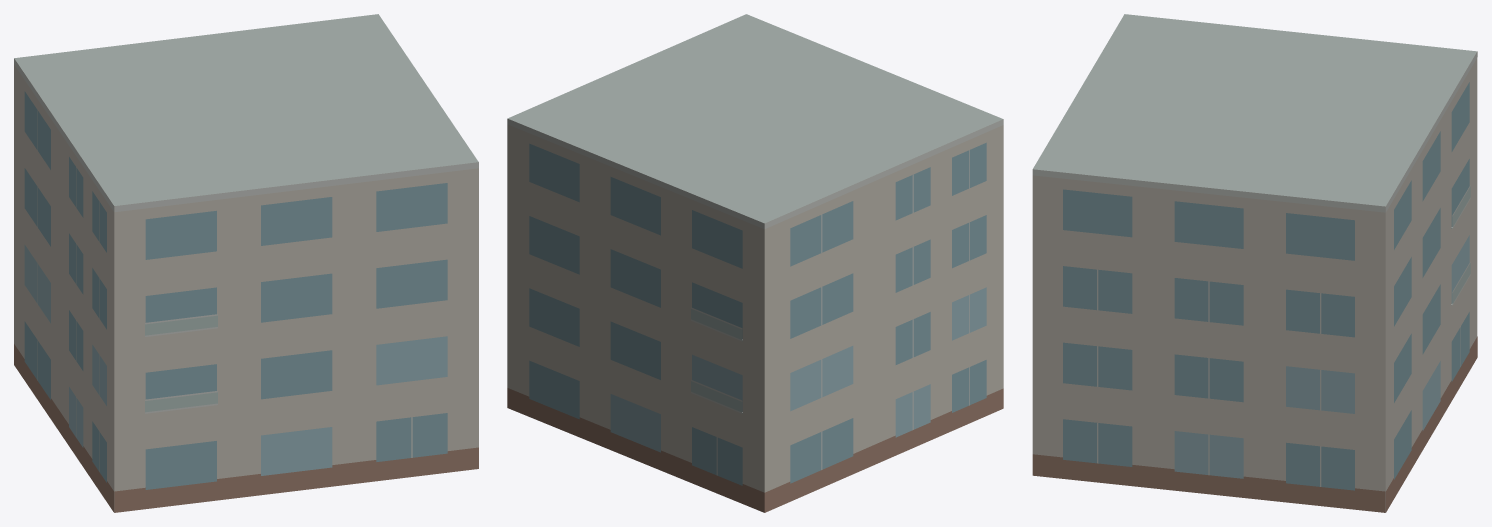
File: residential-9f1bf838-9263-44a7-9ea9-d5c2fa503994.glb
3 renders of one model, left to right at view 1: azimuth 30°, elevation 25°; view 2: azimuth 150°, elevation 25°; view 3: azimuth 270°, elevation 25°, orthographic. The views are drawn at different scales.
Parts seen in each view (by area): view 1: residential-9f1bf838-9263-44a7-9ea9-d5c2fa503994.tmp; view 2: residential-9f1bf838-9263-44a7-9ea9-d5c2fa503994.tmp; view 3: residential-9f1bf838-9263-44a7-9ea9-d5c2fa503994.tmp.
Part boxes in pixels (x1,y1,x2,y2): residential-9f1bf838-9263-44a7-9ea9-d5c2fa503994.tmp: (14, 14, 478, 512); residential-9f1bf838-9263-44a7-9ea9-d5c2fa503994.tmp: (507, 14, 1003, 512); residential-9f1bf838-9263-44a7-9ea9-d5c2fa503994.tmp: (1032, 14, 1477, 512).
Size of the model in its own units: 16.45 by 12.2 by 16.06.
